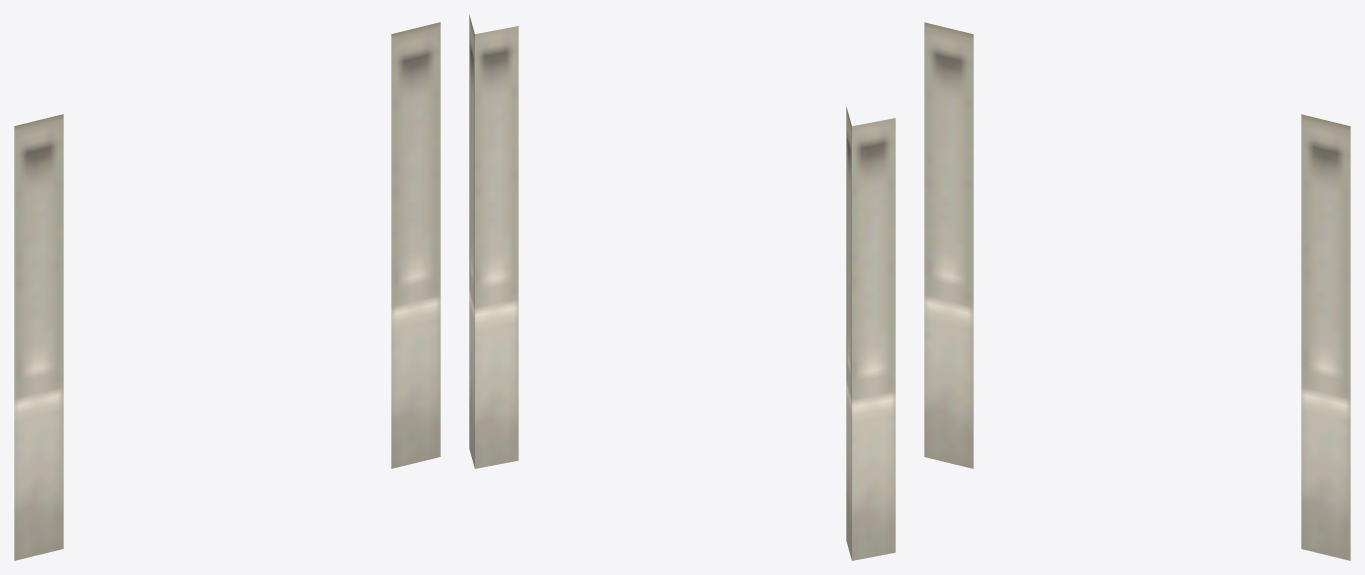
3 renders of one model, left to right at view 1: azimuth 30°, elevation 25°; view 2: azimuth 150°, elevation 25°; view 3: azimuth 330°, elevation 25°, orthographic.
Visible parts, largest first — view 1: Object02; view 2: Object02; view 3: Object02.
Boxes of the visible parts, bbox=[...] form: Object02: bbox=[14, 22, 440, 560]; Object02: bbox=[469, 15, 895, 560]; Object02: bbox=[924, 22, 1350, 560].
Size of the model in its own units: 430 by 419 by 33.93.
Materials: 1 (1 with a texture image).
